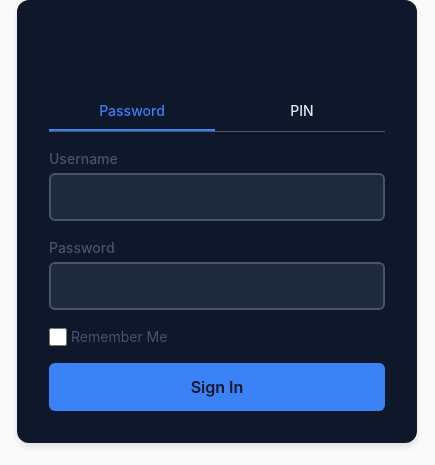
Test: AuthCard › switches input fields when method tab clicked
Expected: the field with test id "username-input" is shown, [49, 173, 385, 221]
Expected: the password field with test id "password-input" is shown, [49, 262, 385, 310]
Click PIN tab
Step 1. Click the tab with test id "auth-method-tab-pin" → [302, 112], box [219, 92, 385, 131]
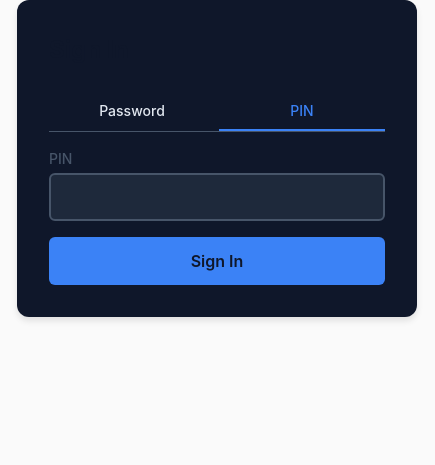
Expected: the password field with test id "pin-input" is shown, [49, 173, 385, 221]
Expected: the password field with test id "password-input" is gone
